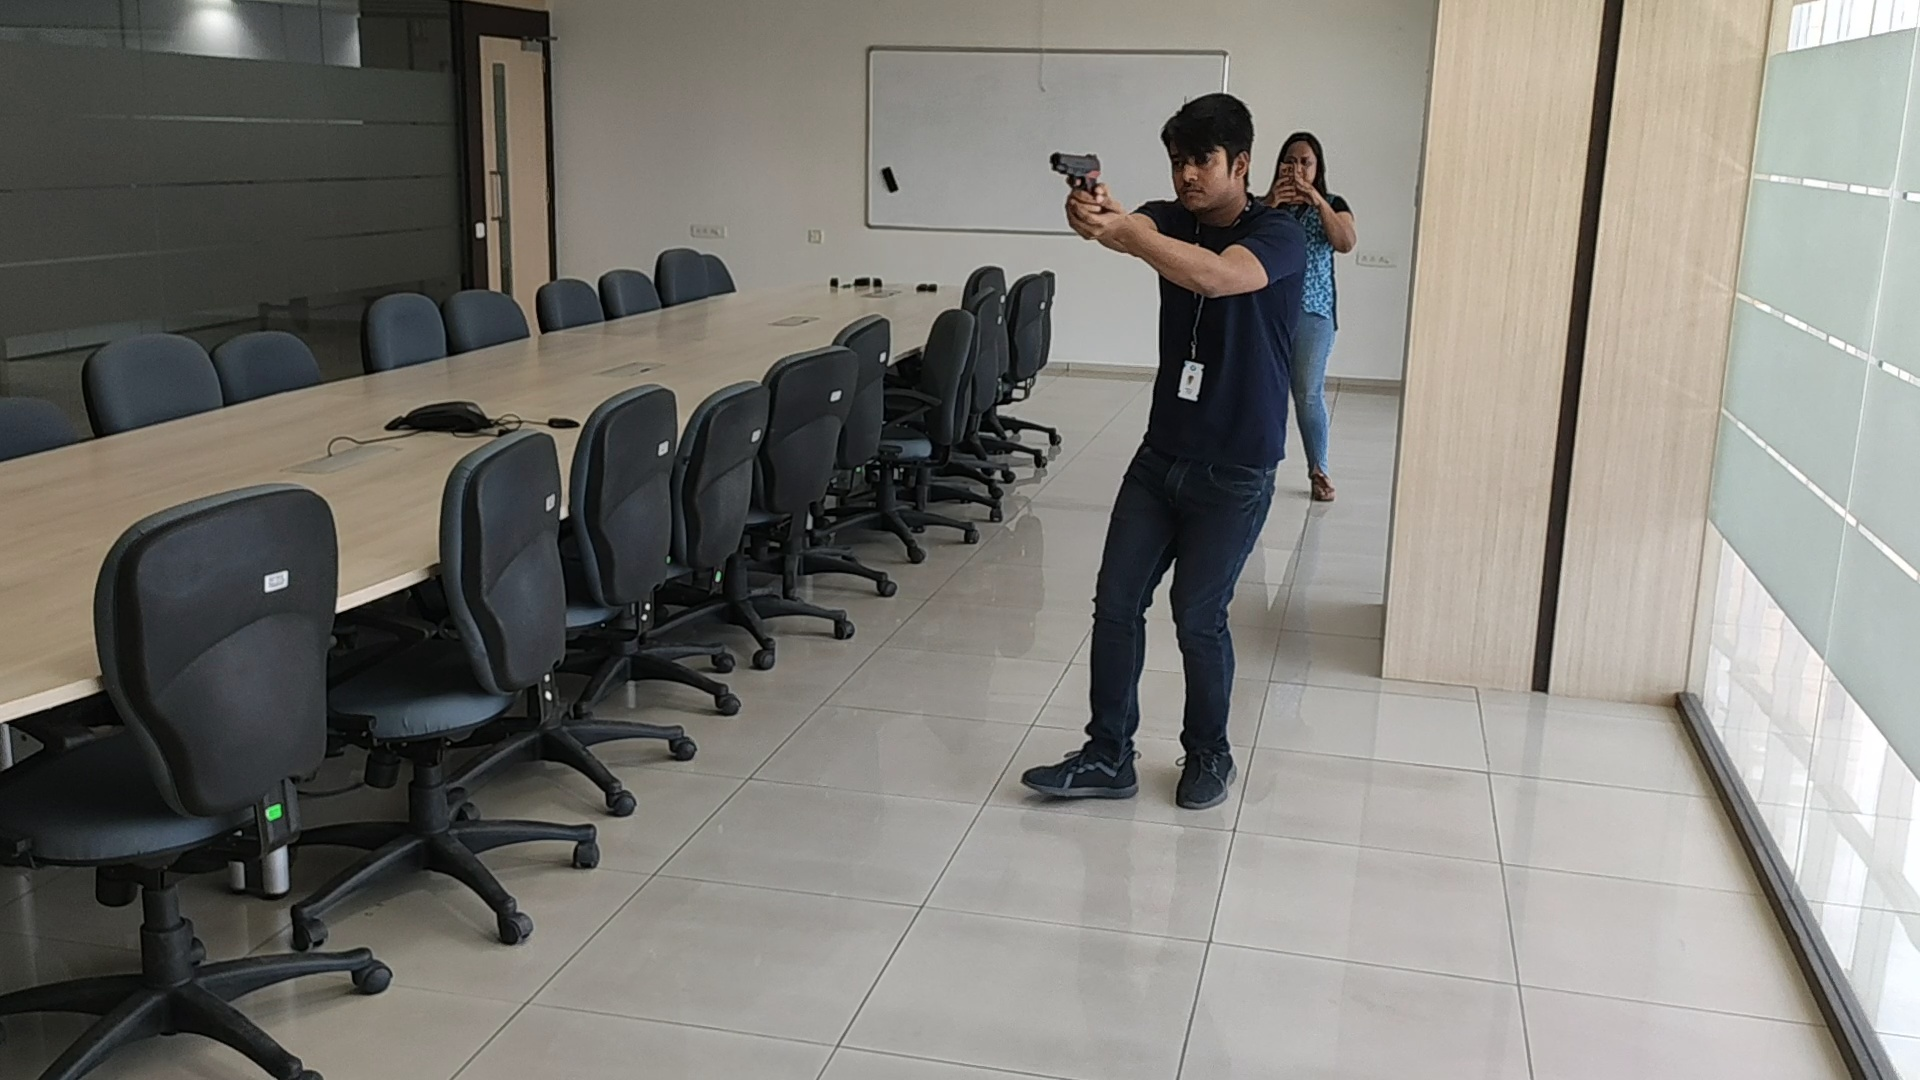gun: (1048, 148, 1104, 196)
